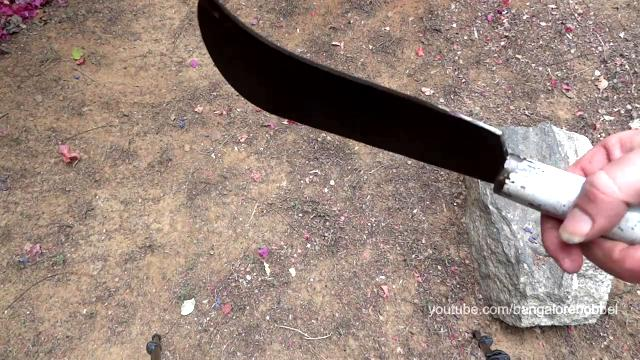long knife: (195, 0, 640, 279)
